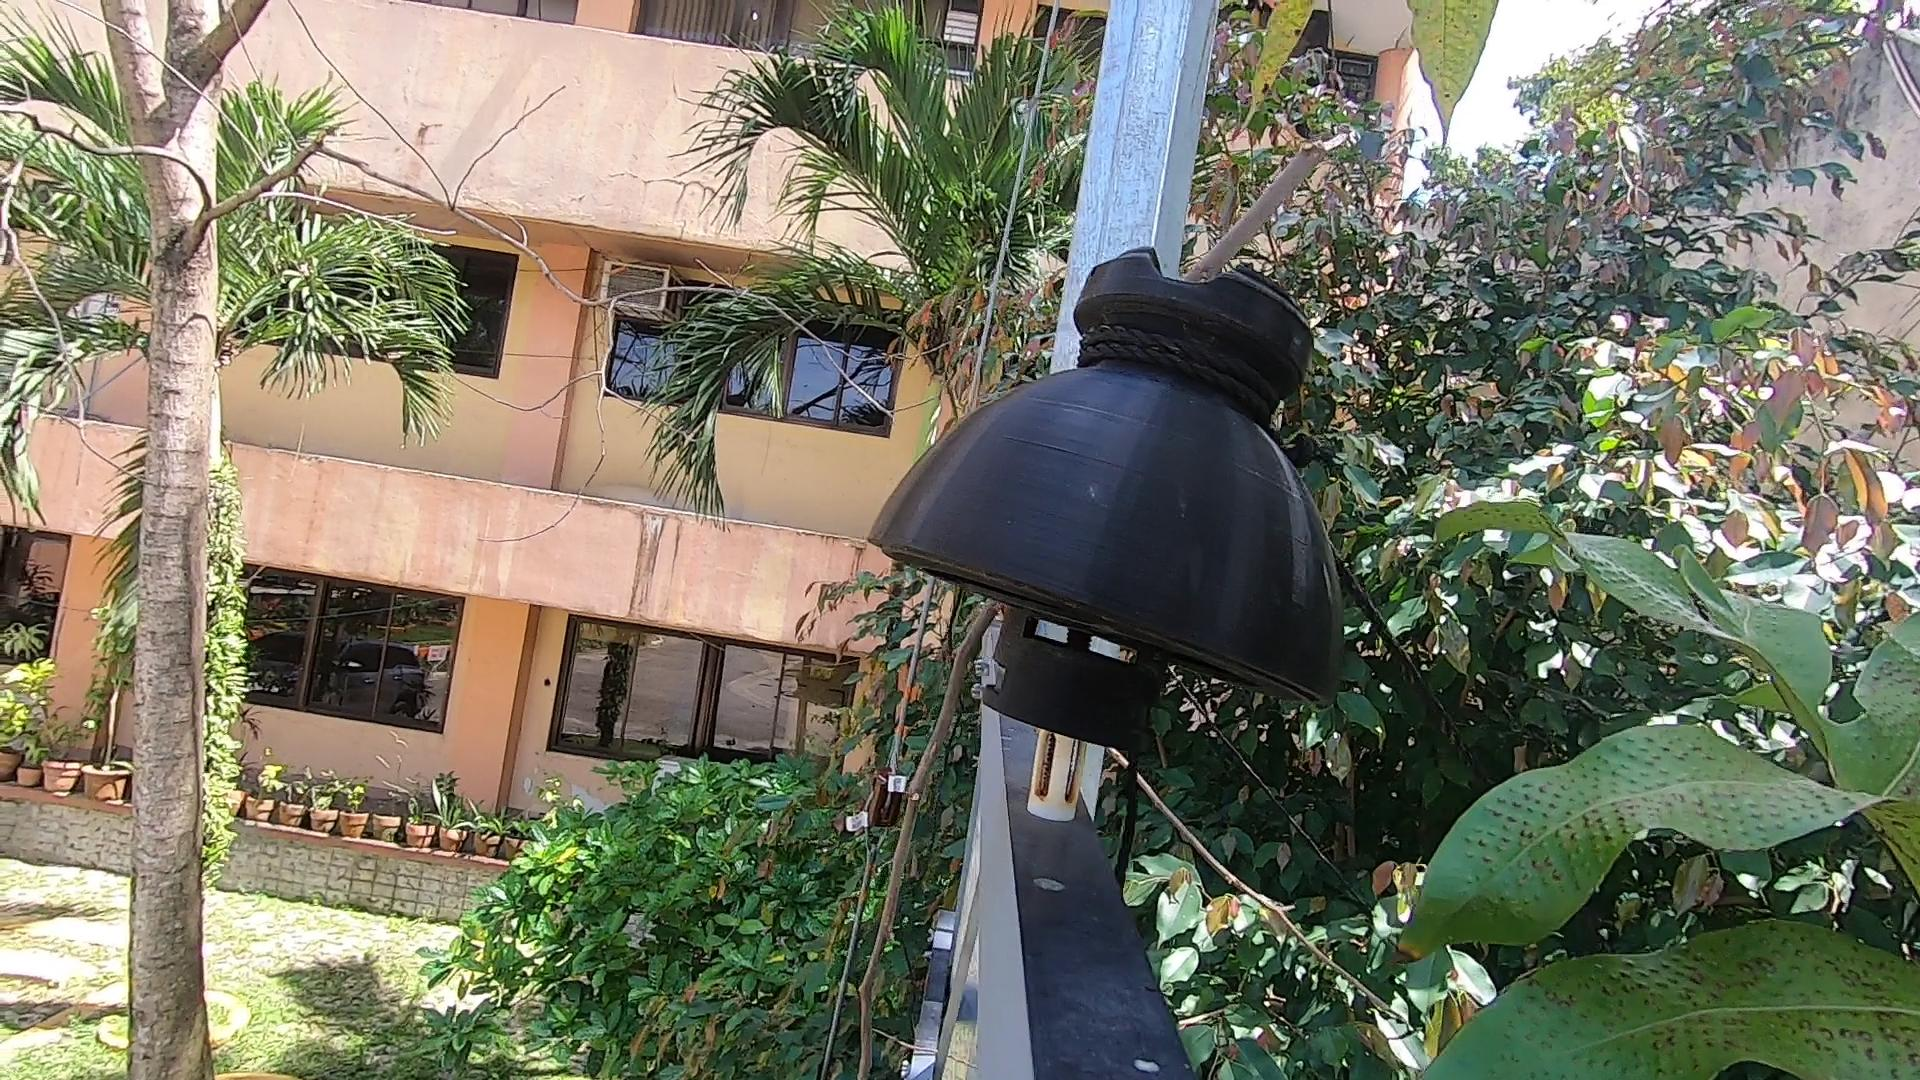tree branch: (819, 128, 1352, 1080)
